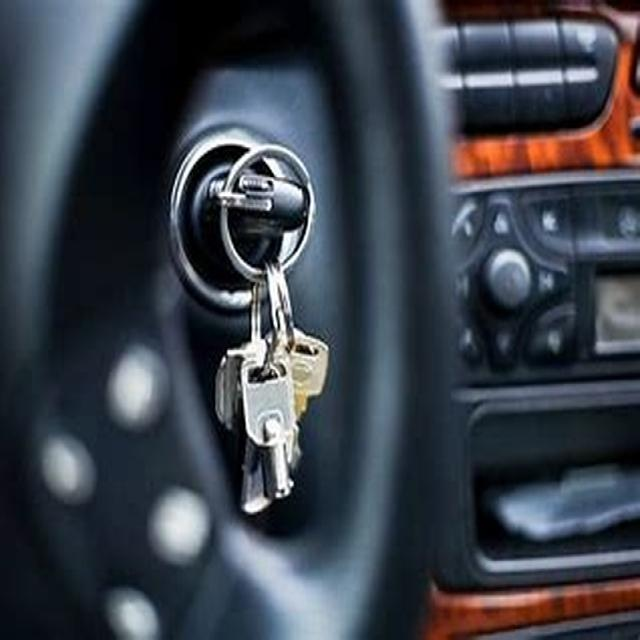key: (163, 109, 347, 532)
